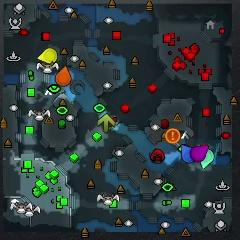Other: (165, 128, 180, 143)
p1: (181, 144, 194, 163)
p2: (200, 150, 215, 169)
p3: (191, 145, 209, 162)
p4: (38, 48, 57, 63)
p5: (56, 66, 71, 87)
x2: (98, 114, 115, 132)
